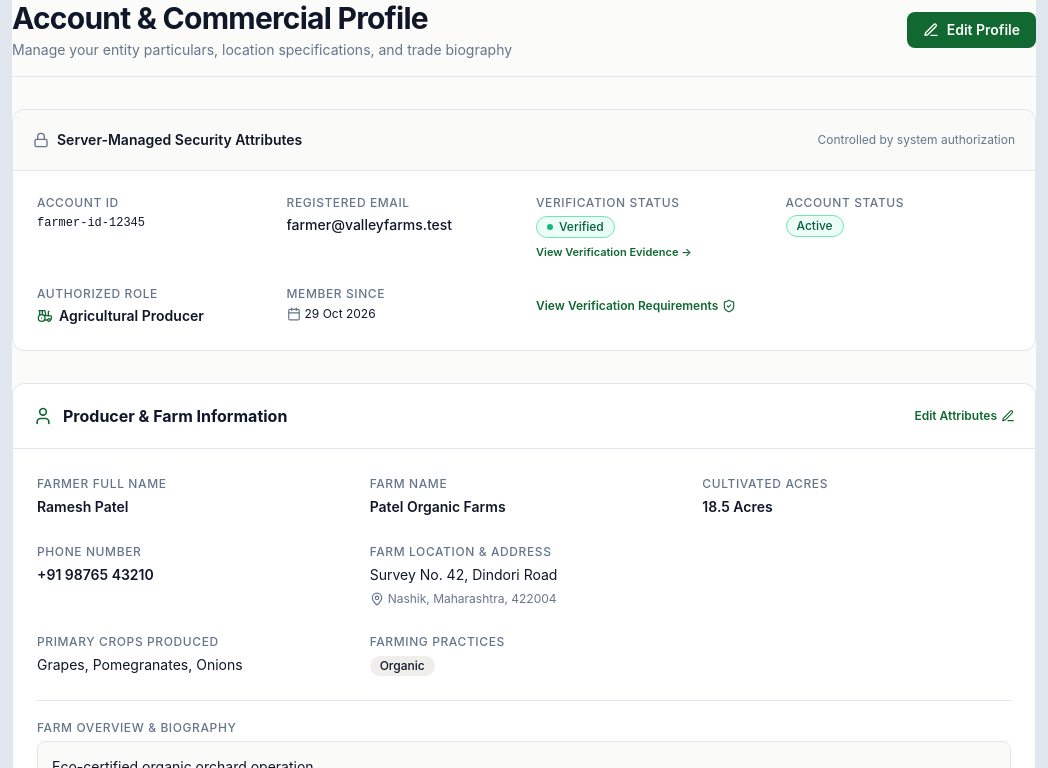
Test: ProfilePage › validates required farmer fields on submission in edit mode
Click the button "Edit Profile" at (971, 30), box [907,12,1036,48]
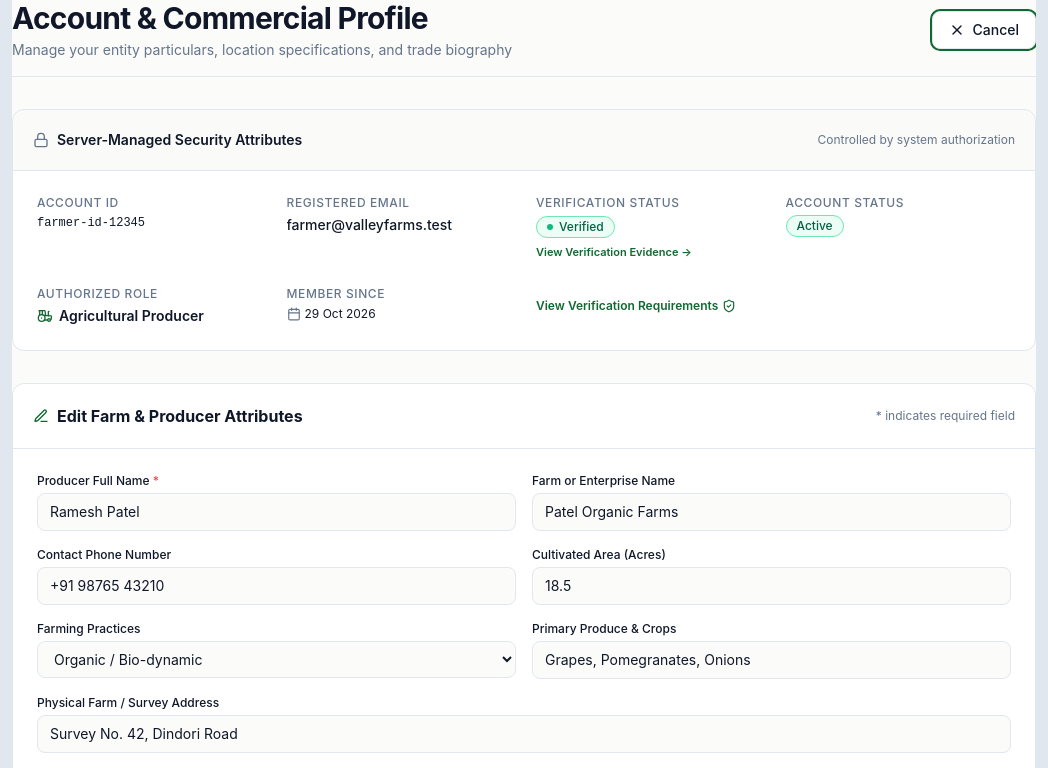
Clear the field labelled "Producer Full Name *" at (276, 512), box [37,493,516,531]
(page scrolled)
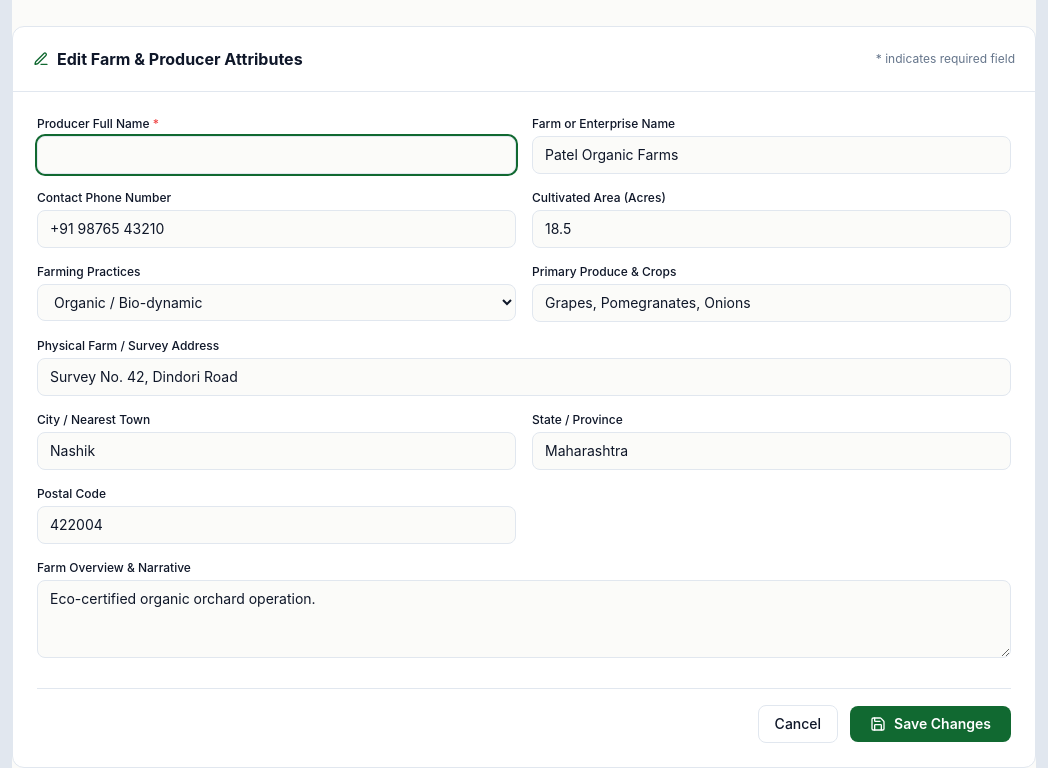
Click the button "Save Changes" at (931, 724), box [850,706,1011,742]
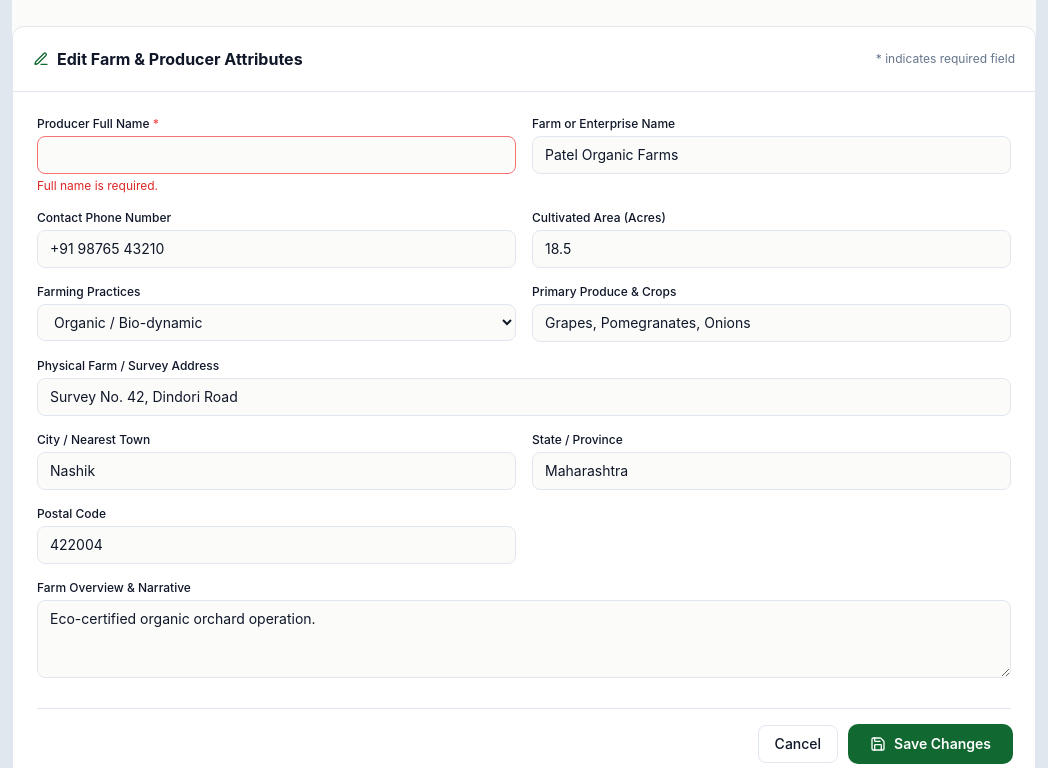
Result: the text "Full name is required." is shown at [37,178,158,193]
